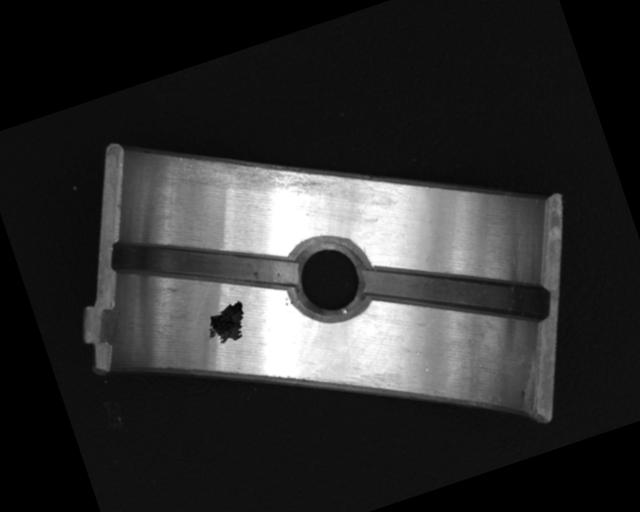blot: (198, 297, 253, 350)
gap: (359, 218, 552, 368), (106, 191, 300, 334)
hole: (277, 223, 382, 332)
scratch: (168, 108, 348, 234)
